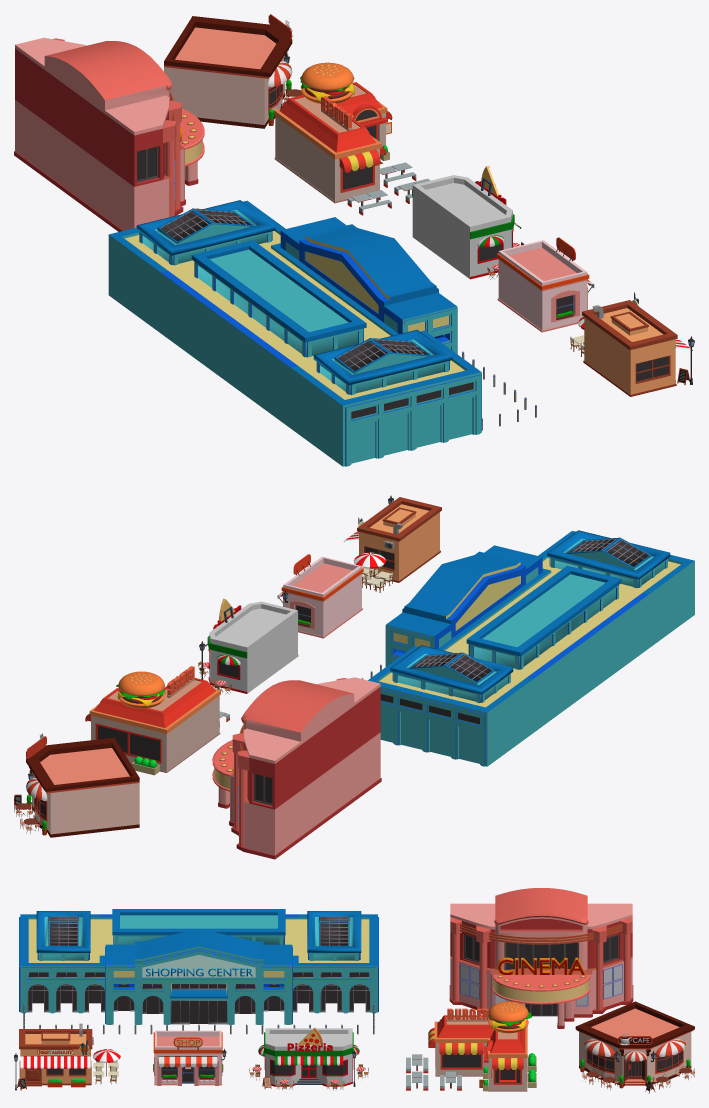
File: Shops Small Set 1.fbx
3 views of the same model, one above another, from view 1: azimuth 30°, elevation 25°; view 2: azimuth 150°, elevation 25°; view 3: azimuth 270°, elevation 25° (orthographic). The views are drawn at different scales.
Visible parts, largest first — view 1: ShoppingCenterBuilding, Cinema, BurgerBuilding, CafeBuilding, PizzaBuilding, RestaurantBuilding, ShopBuilding; view 2: ShoppingCenterBuilding, Cinema, CafeBuilding, BurgerBuilding, PizzaBuilding, RestaurantBuilding, ShopBuilding; view 3: ShoppingCenterBuilding, Cinema, BurgerBuilding, CafeBuilding, PizzaBuilding, RestaurantBuilding, ShopBuilding, PizzaTables.
Boxes of the visible parts, x1,y1,x2,y2 form: ShoppingCenterBuilding: (108,200,536,466); Cinema: (14,37,204,231); BurgerBuilding: (274,62,430,215); CafeBuilding: (164,14,302,128); PizzaBuilding: (412,165,521,279); RestaurantBuilding: (570,292,694,396); ShopBuilding: (496,237,594,332); ShoppingCenterBuilding: (361,530,694,766); Cinema: (212,677,381,859); CafeBuilding: (14,733,139,837); BurgerBuilding: (85,666,229,775); PizzaBuilding: (205,598,298,693); RestaurantBuilding: (343,495,441,592); ShopBuilding: (277,554,363,638); ShoppingCenterBuilding: (19,909,378,1034); Cinema: (449,888,633,1028); BurgerBuilding: (406,1001,536,1091); CafeBuilding: (575,1001,694,1093); PizzaBuilding: (258,1027,359,1086); RestaurantBuilding: (14,1023,120,1090); ShopBuilding: (153,1030,226,1085); PizzaTables: (249,1064,368,1090).
Size of the model in its own units: 1590 by 557 by 3427.
Materials: 1 (1 with a texture image).
